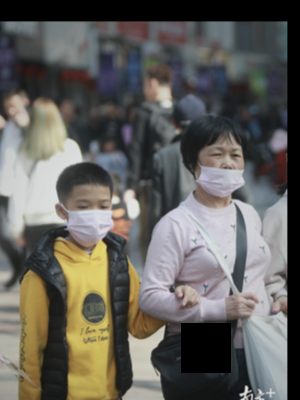with_mask: (193, 141, 246, 199), (66, 195, 113, 247)
